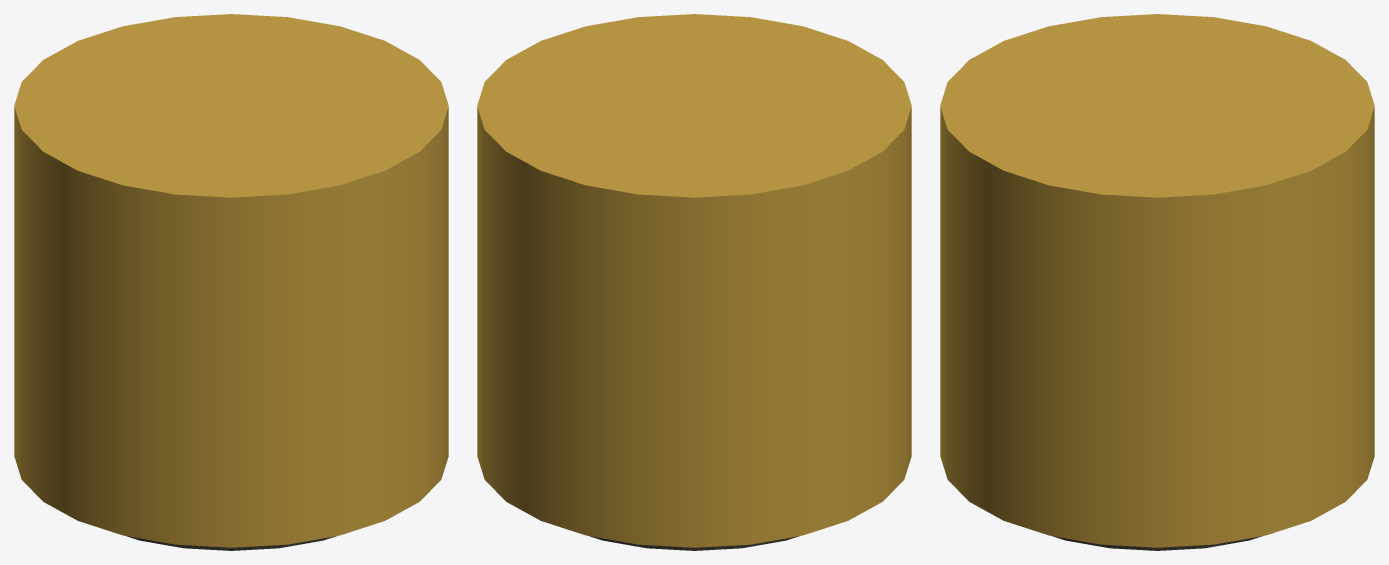
3 renders of one model, left to right at view 1: azimuth 30°, elevation 25°; view 2: azimuth 150°, elevation 25°; view 3: azimuth 270°, elevation 25°, orthographic.
Visible parts, largest first — view 1: body, base; view 2: body, base; view 3: body, base.
Part boxes in pixels (x1,y1,x2,y2): body: [14, 14, 448, 547]; base: [126, 536, 336, 550]; body: [477, 14, 911, 547]; base: [589, 536, 799, 550]; body: [940, 14, 1374, 547]; base: [1052, 536, 1262, 550].
Bounding box in the file's own units: 0.45 × 0.42 × 0.45.
